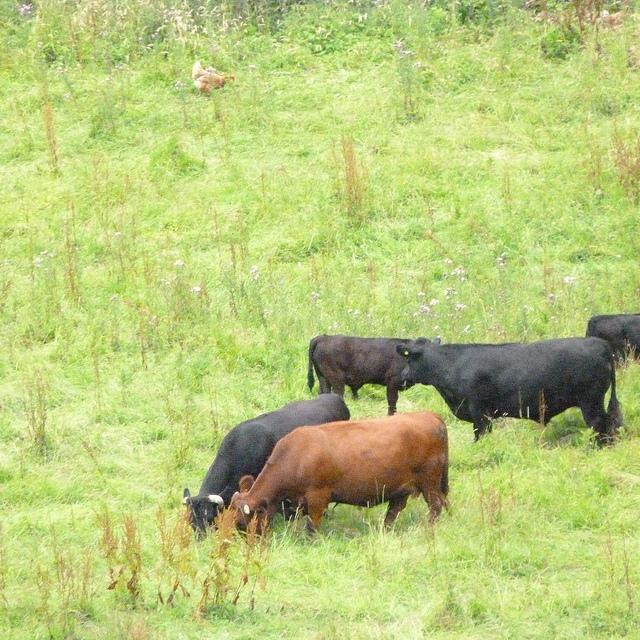cow: (233, 408, 451, 547), (182, 391, 351, 542), (407, 334, 621, 451), (301, 336, 431, 414), (583, 311, 639, 361)
